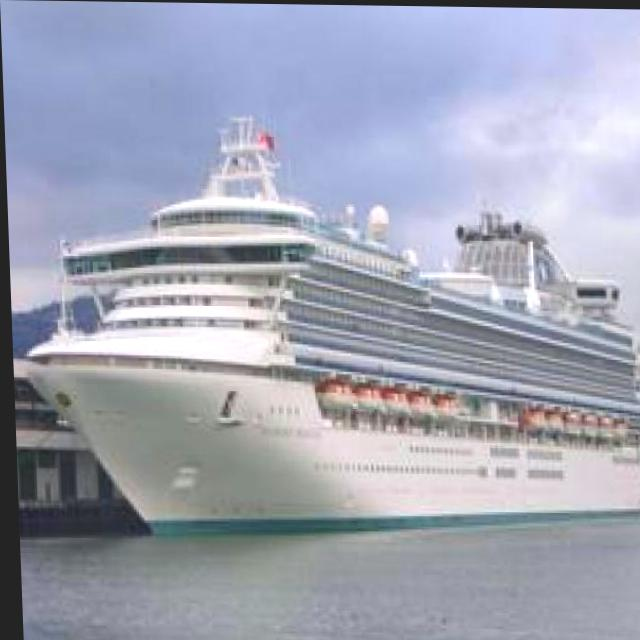ship2: (10, 115, 640, 538)
